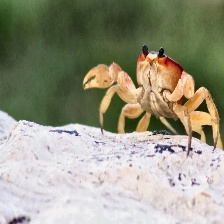crab: (82, 48, 222, 161)
